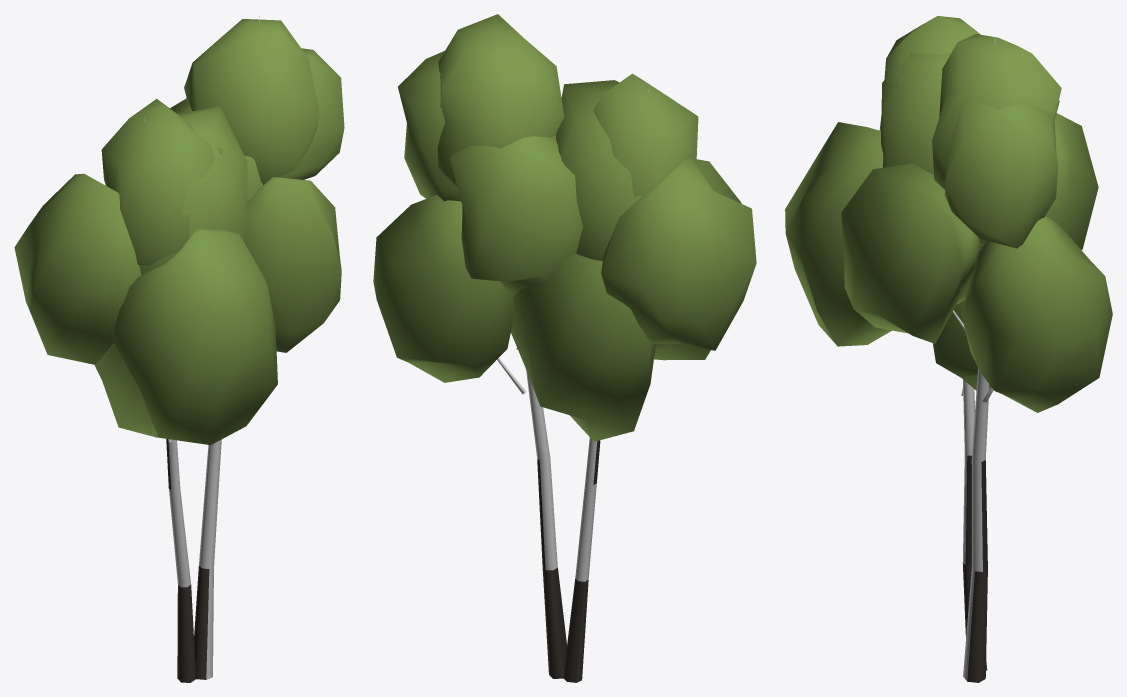
Rendered from tree_birch_b.glb.
The picture shows the model from 3 angles, left to right: view 1: azimuth 30°, elevation 25°; view 2: azimuth 150°, elevation 25°; view 3: azimuth 270°, elevation 25°; orthographic projection. The views are drawn at different scales.
Visible parts, largest first — view 1: tree_birch_b; view 2: tree_birch_b; view 3: tree_birch_b.
Boxes of the visible parts, x1,y1,x2,y2 form: tree_birch_b: (14,16,344,682); tree_birch_b: (373,14,756,682); tree_birch_b: (785,16,1112,682).
Bounding box in the file's own units: 6.97 × 13.02 × 5.7.
